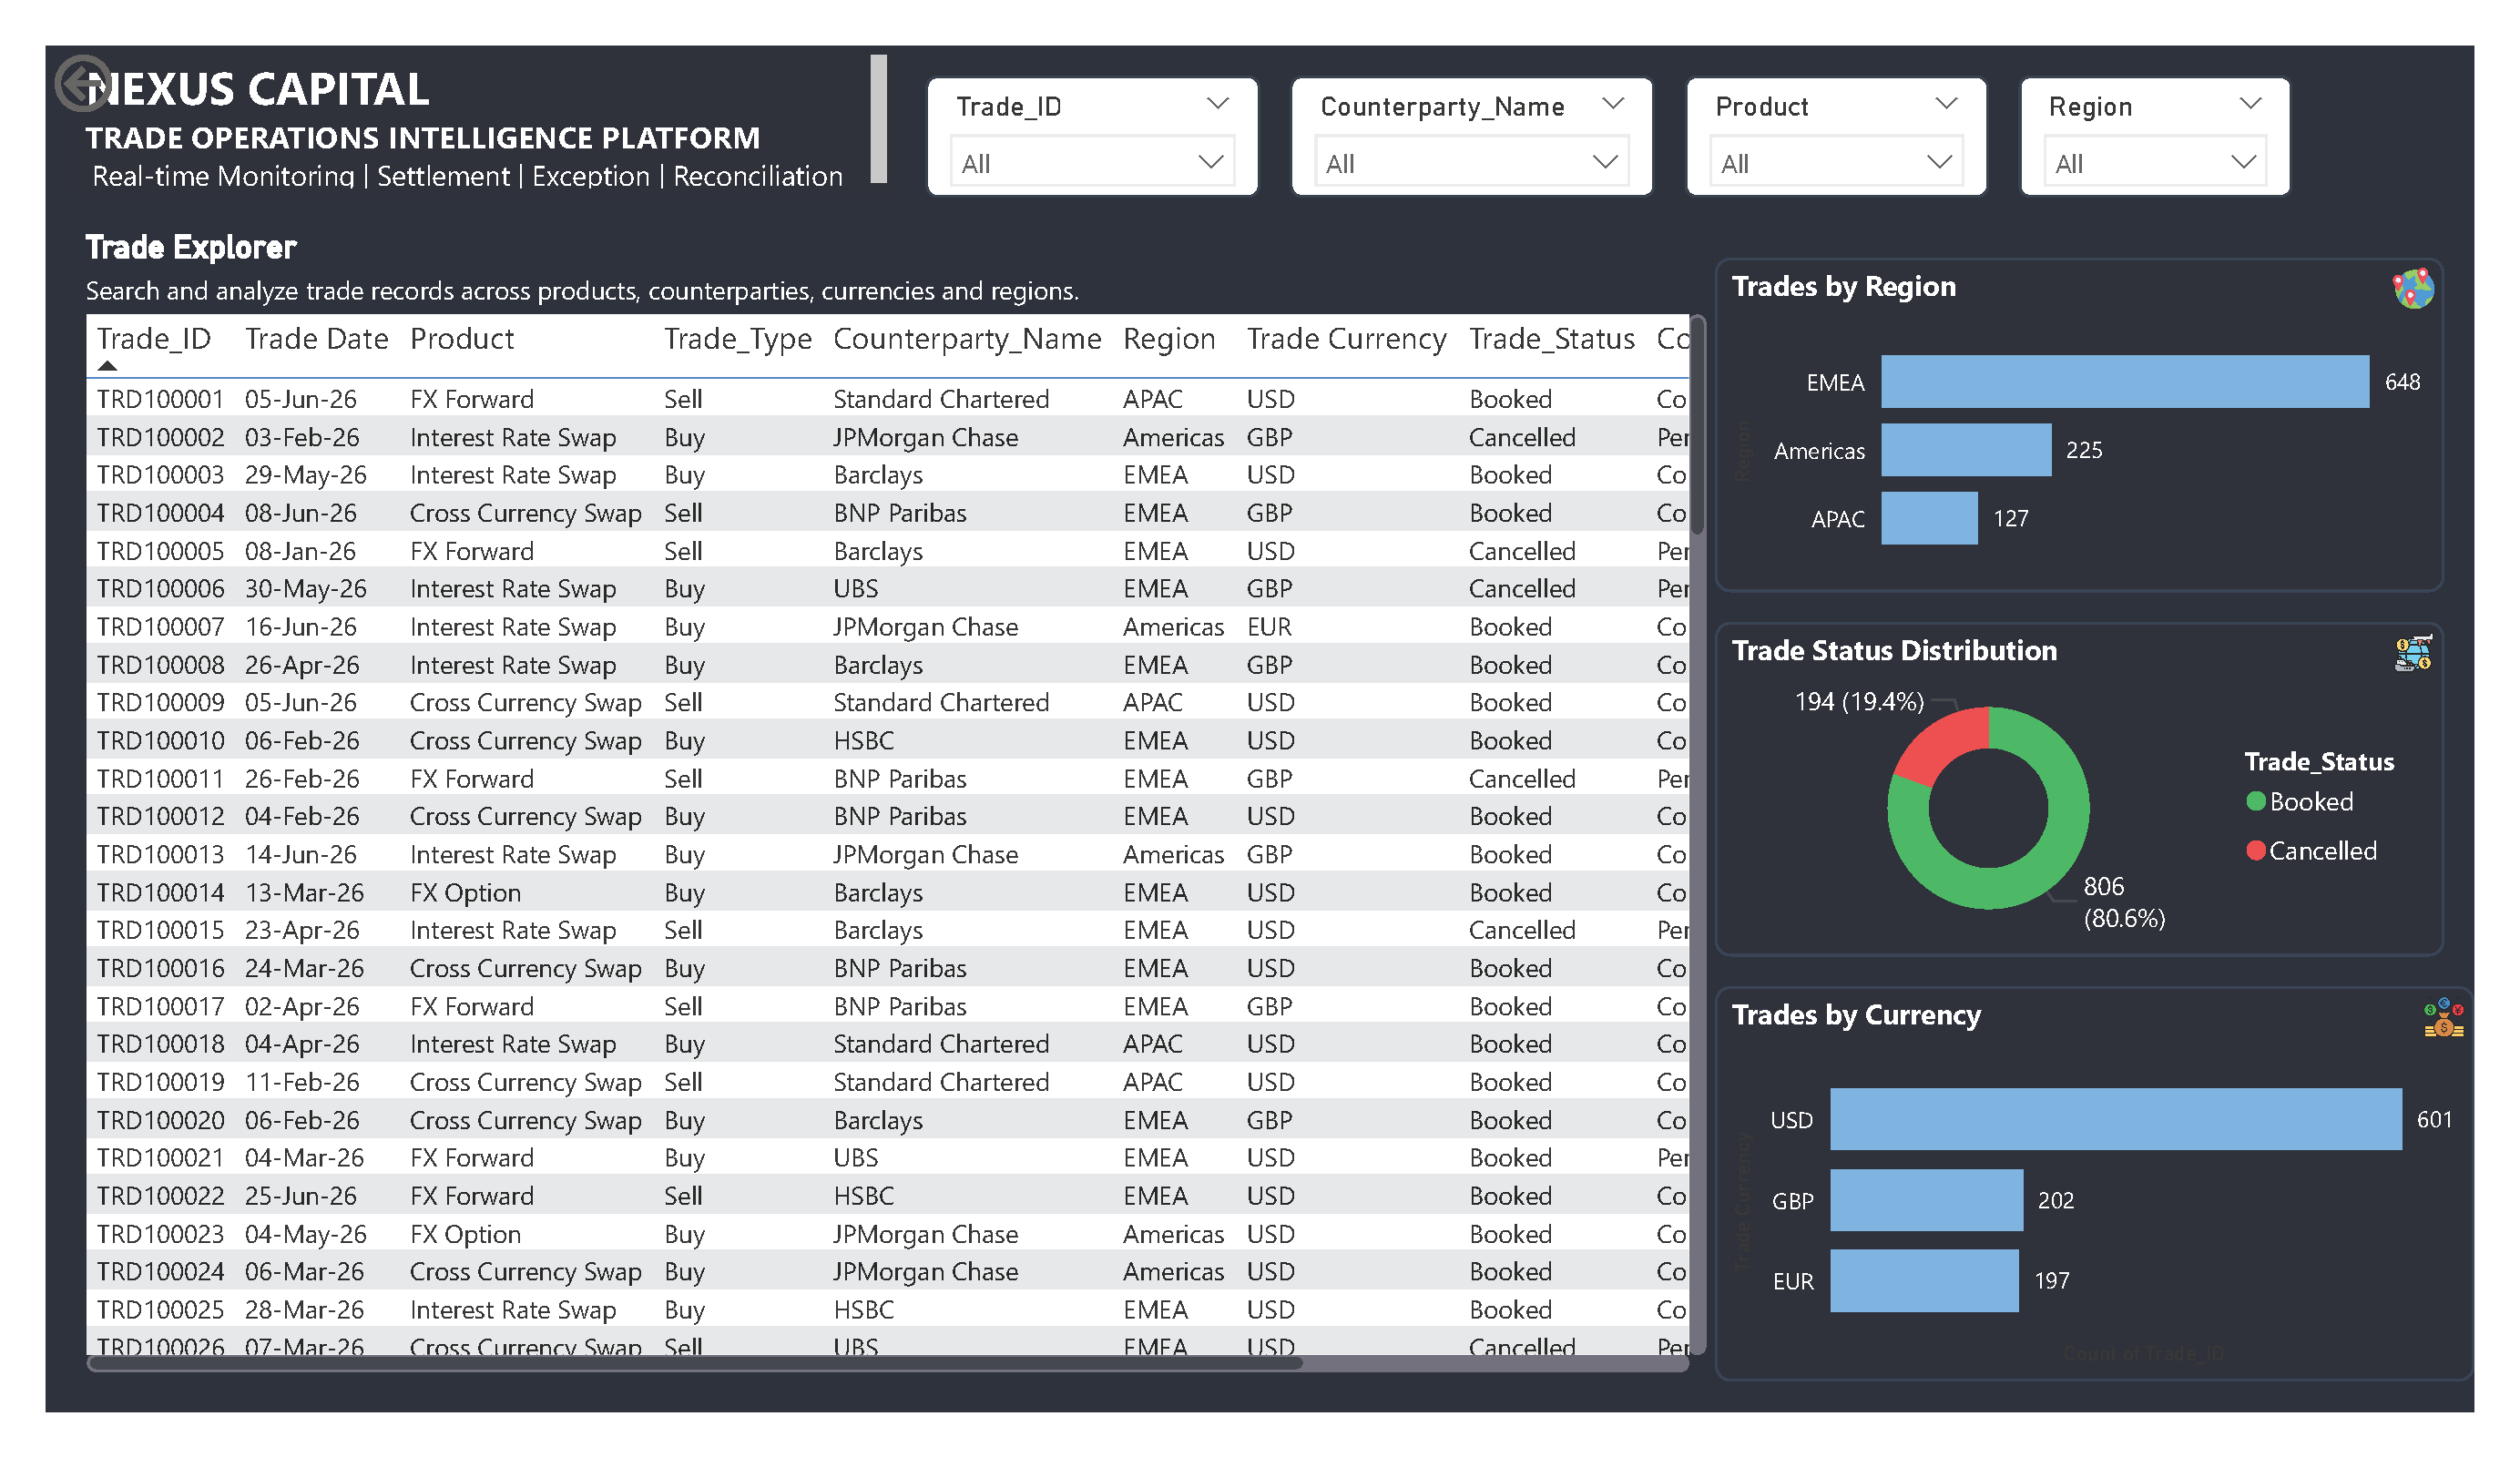

The dashboard page shown, as its layout file describes it:
{"tool":"powerbi","page":{"name":"📊 Trade Explorer","canvas":[1280,720],"ordinal":1},"visuals":[{"type":"textbox","box":[16,0,432,80],"z":0},{"type":"slicer","fields":{"Values":["trade_operations_db trade_details.Trade_ID"]},"box":[464,16,176,64],"z":1000},{"type":"slicer","fields":{"Values":["trade_operations_db counterparty.Counterparty_Name"]},"box":[656,16,192,64],"z":2000},{"type":"slicer","fields":{"Values":["trade_operations_db trade_details.Product"]},"box":[864,16,160,64],"z":3000},{"type":"slicer","fields":{"Values":["trade_operations_db counterparty.Region"]},"box":[1040,16,144,64],"z":4000},{"type":"tableEx","title":"Trade Explorer","fields":{"Values":["trade_operations_db trade_details.Trade_ID","trade_operations_db trade_details.Trade_Date","trade_operations_db trade_details.Product","trade_operations_db trade_details.Trade_Type","trade_operations_db counterparty.Counterparty_Name","trade_operations_db counterparty.Region","trade_operations_db trade_details.Trade_Currency","trade_operations_db trade_details.Trade_Status","trade_operations_db trade_details.Confirmation_Status","trade_operations_db trade_details.Settlement_Status"]},"box":[16,96,864,608],"z":5000},{"type":"actionButton","box":[0,0,100,40],"z":6000},{"type":"clusteredBarChart","title":"Trades by Region","fields":{"Y":["CountNonNull(trade_operations_db trade_details.Trade_ID)"],"Category":["trade_operations_db counterparty.Region"]},"box":[880,112,384,176],"z":7000},{"type":"donutChart","title":"Trade Status Distribution","fields":{"Category":["trade_operations_db trade_details.Trade_Status"],"Y":["CountNonNull(trade_operations_db trade_details.Trade_ID)"]},"box":[880,304,384,176],"z":8000},{"type":"barChart","title":"Trades by Currency","fields":{"Category":["trade_operations_db trade_details.Trade_Currency"],"Y":["CountNonNull(trade_operations_db trade_details.Trade_ID)"]},"box":[880,496,400,208],"z":9000},{"type":"image","box":[1232,112,32,32],"z":10000},{"type":"image","box":[1248,496,32,32],"z":11000},{"type":"image","box":[1232,304,32,32],"z":12000}]}

Visuals, with their boxes on the page's 1280x720 design canvas (x1, y1, x2, y2). These are canvas units, not pixel positions in the 2520x1457 screenshot, which may show the page scaled, cropped or inside an application window:
textbox: {"left": 16, "top": 0, "right": 448, "bottom": 80}
slicer - trade_operations_db trade_details.Trade_ID: {"left": 464, "top": 16, "right": 640, "bottom": 80}
slicer - trade_operations_db counterparty.Counterparty_Name: {"left": 656, "top": 16, "right": 848, "bottom": 80}
slicer - trade_operations_db trade_details.Product: {"left": 864, "top": 16, "right": 1024, "bottom": 80}
slicer - trade_operations_db counterparty.Region: {"left": 1040, "top": 16, "right": 1184, "bottom": 80}
"Trade Explorer" tableEx: {"left": 16, "top": 96, "right": 880, "bottom": 704}
actionButton: {"left": 0, "top": 0, "right": 100, "bottom": 40}
"Trades by Region" clusteredBarChart: {"left": 880, "top": 112, "right": 1264, "bottom": 288}
"Trade Status Distribution" donutChart: {"left": 880, "top": 304, "right": 1264, "bottom": 480}
"Trades by Currency" barChart: {"left": 880, "top": 496, "right": 1280, "bottom": 704}
image: {"left": 1232, "top": 112, "right": 1264, "bottom": 144}
image: {"left": 1248, "top": 496, "right": 1280, "bottom": 528}
image: {"left": 1232, "top": 304, "right": 1264, "bottom": 336}
